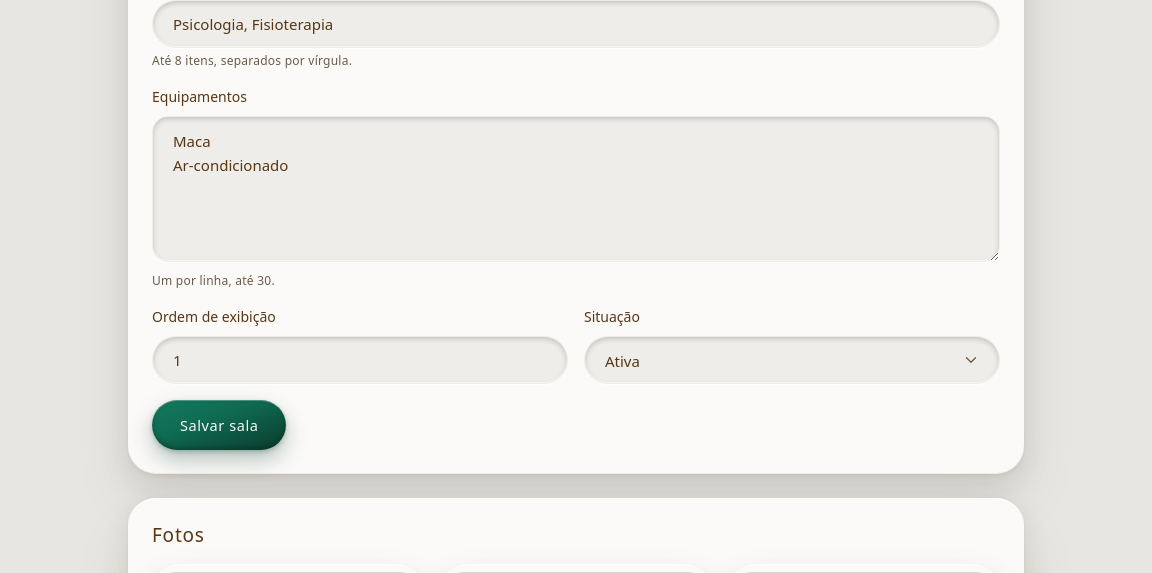
Test case: RoomEditPage edit (GES-103) › lists the booking codes and subscriptions in a modal when inactivating is refused (GES-104)
The width and height of the screenshot is (1152, 573).
(page scrolled)
Select "Inativa" in the dropdown labelled "Situação" at (792, 360), box [584,336,1000,384]
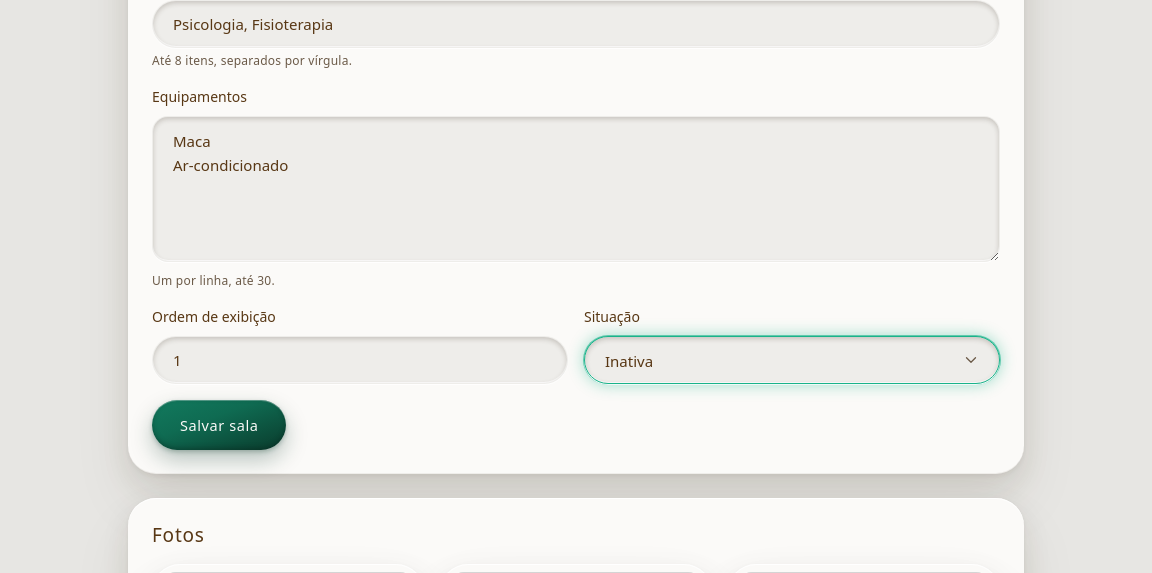
Click the button "Salvar sala" at (219, 425), box [152,400,286,450]
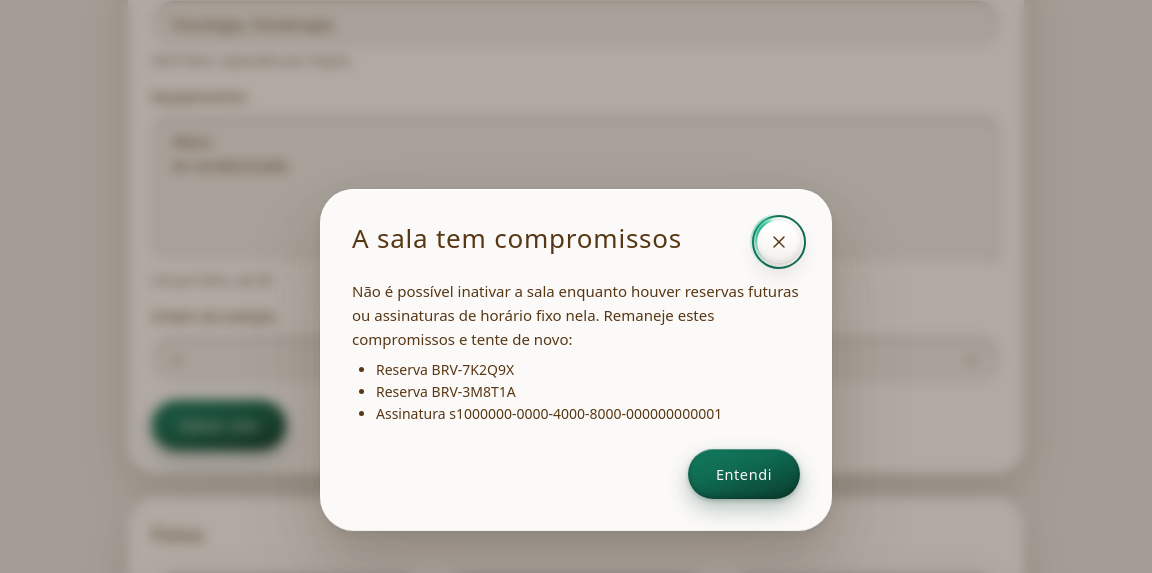
Expected: the list items read "Reserva BRV-7K2Q9X", "Reserva BRV-3M8T1A", "Assinatura s1000000-0000-4000-8000-000000000001", in this order, [376,360,514,379]; [376,382,516,401]; [376,404,722,423]
